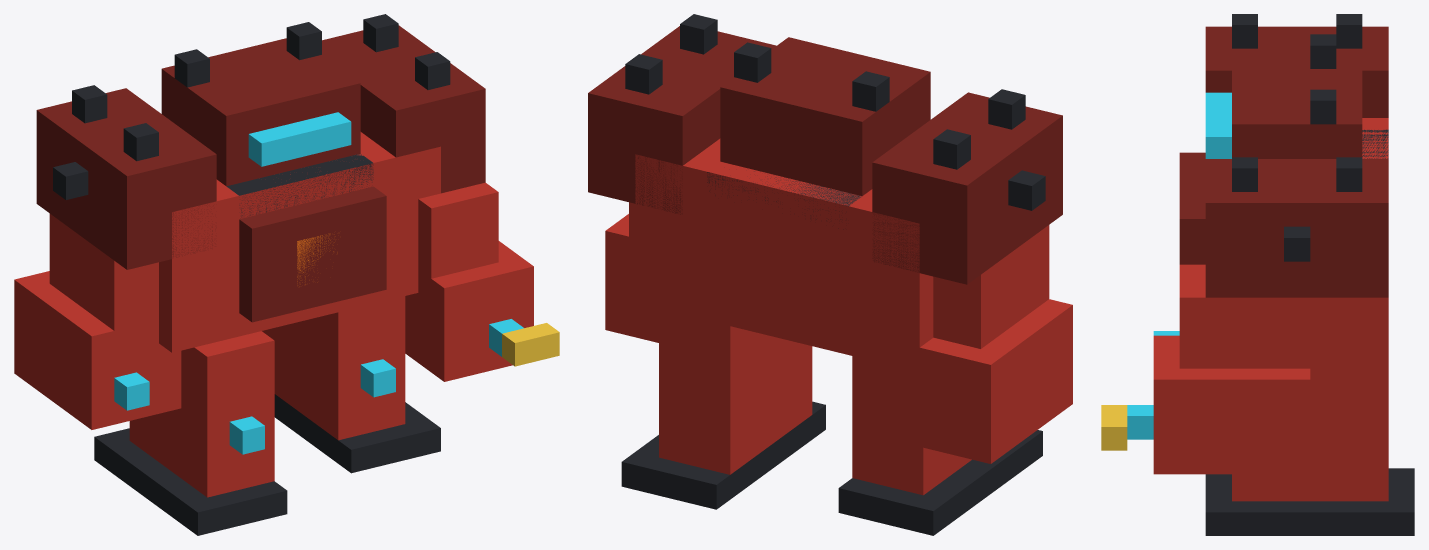
The model's file is mech_boss_attack.glb.
The picture shows the model from 3 angles, left to right: view 1: azimuth 30°, elevation 25°; view 2: azimuth 150°, elevation 25°; view 3: azimuth 270°, elevation 25°; orthographic projection. The views are drawn at different scales.
Parts seen in each view (by area): view 1: Torso mesh, Pauldron L mesh, Fist L mesh, Head mesh, Leg L mesh, Chest mesh, Leg R mesh, Pauldron R mesh, Feet mesh, Fist R mesh, Arm L mesh, Arm R mesh (+5 smaller); view 2: Torso mesh, Pauldron L mesh, Head mesh, Leg R mesh, Fist L mesh, Pauldron R mesh, Feet mesh, Arm L mesh, Leg L mesh, Spike mesh, Fist R mesh, Horn mesh (+1 smaller); view 3: Pauldron R mesh, Fist R mesh, Leg R mesh, Head mesh, Arm R mesh, Feet mesh, Torso mesh, Pauldron L mesh, Spike mesh, Chest mesh, Horn mesh, Visor mesh (+2 smaller).
Part boxes in pixels (bbox=[...]): Torso mesh: bbox=[159, 132, 440, 352]; Pauldron L mesh: bbox=[36, 88, 216, 269]; Fist L mesh: bbox=[14, 271, 181, 429]; Head mesh: bbox=[161, 38, 360, 186]; Leg L mesh: bbox=[129, 331, 274, 497]; Chest mesh: bbox=[239, 186, 386, 322]; Leg R mesh: bbox=[262, 296, 405, 440]; Pauldron R mesh: bbox=[322, 25, 485, 193]; Feet mesh: bbox=[94, 394, 440, 535]; Fist R mesh: bbox=[405, 241, 533, 381]; Arm L mesh: bbox=[49, 213, 158, 353]; Arm R mesh: bbox=[418, 182, 498, 278]; Torso mesh: bbox=[635, 138, 933, 372]; Pauldron L mesh: bbox=[872, 92, 1062, 284]; Head mesh: bbox=[720, 37, 930, 196]; Leg R mesh: bbox=[659, 309, 812, 474]; Fist L mesh: bbox=[896, 299, 1072, 463]; Pauldron R mesh: bbox=[588, 26, 776, 214]; Feet mesh: bbox=[621, 401, 1042, 535]; Arm L mesh: bbox=[933, 225, 1049, 348]; Leg L mesh: bbox=[852, 356, 971, 495]; Spike mesh: bbox=[625, 14, 1045, 210]; Fist R mesh: bbox=[605, 214, 658, 342]; Horn mesh: bbox=[734, 42, 889, 111]; Pauldron R mesh: bbox=[1205, 159, 1388, 297]; Fist R mesh: bbox=[1127, 335, 1310, 474]; Leg R mesh: bbox=[1232, 370, 1388, 501]; Head mesh: bbox=[1232, 58, 1362, 158]; Arm R mesh: bbox=[1179, 264, 1310, 368]; Feet mesh: bbox=[1205, 468, 1414, 535]; Torso mesh: bbox=[1310, 118, 1388, 370]; Pauldron L mesh: bbox=[1205, 26, 1388, 117]; Spike mesh: bbox=[1232, 14, 1362, 261]; Chest mesh: bbox=[1179, 152, 1205, 264]; Horn mesh: bbox=[1310, 34, 1336, 124]; Visor mesh: bbox=[1205, 92, 1231, 158].
Size of the model in its own units: 18 by 17 by 12.
Materials: 1 (1 with a texture image).
